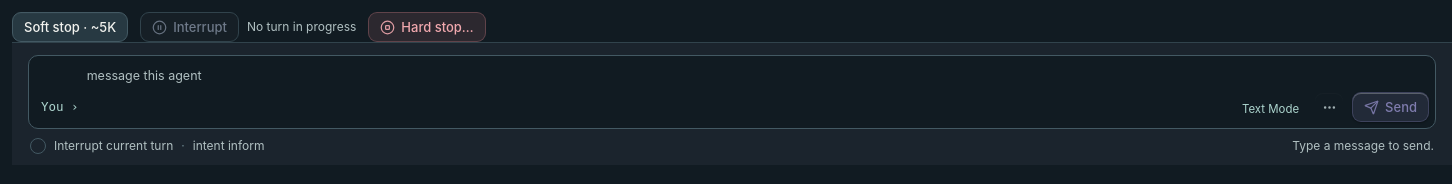
Scenario: Agent controls › keeps text typed while a send is in flight
The image size is (1452, 184).
Type "first" into the text box labelled "message".
click(696, 77); type("first")  # box [87,62,1306,92]
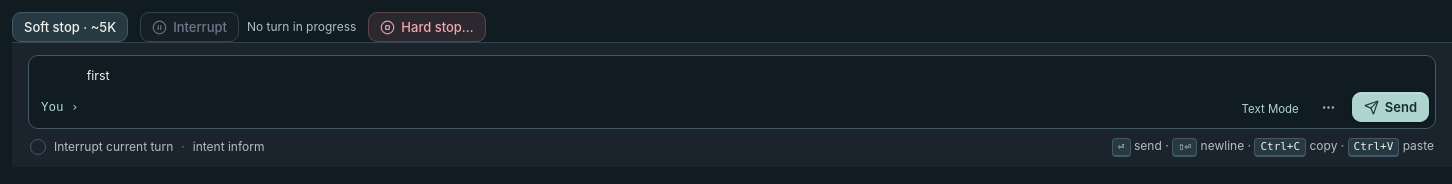
Submit the form named "Send a message"
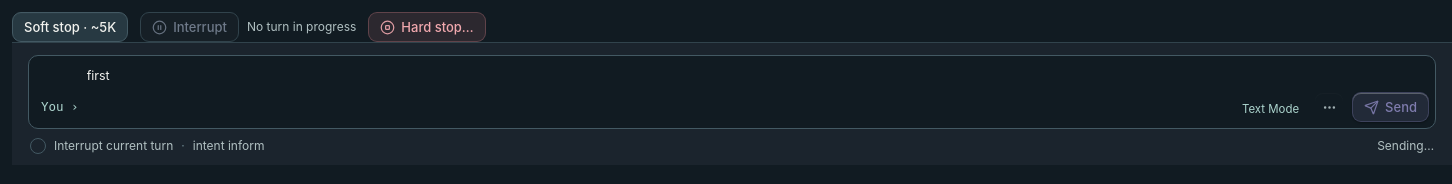
Replace the text in the text box named "message" with "first and more" at (696, 77), box [87,62,1306,92]
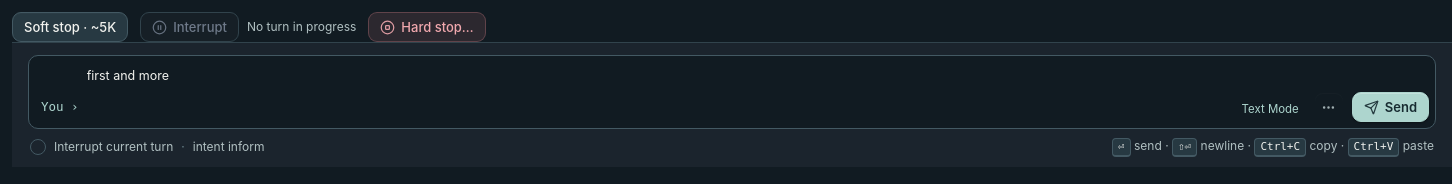
Result: the button "Send" is enabled at [1352,92,1429,122]
